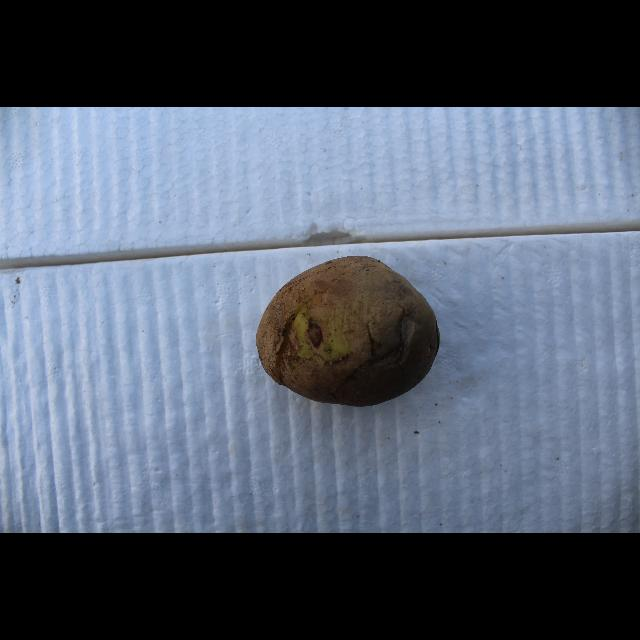Diseased-fungal potato: (252, 252, 446, 408)
